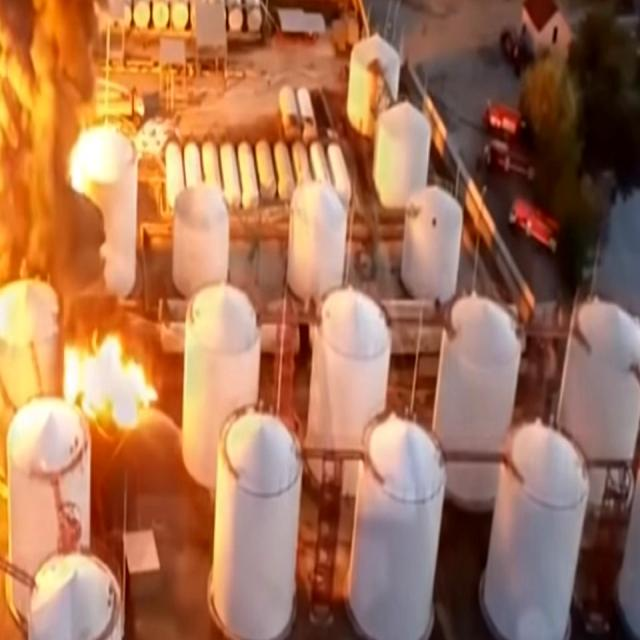fire: (73, 314, 150, 422)
